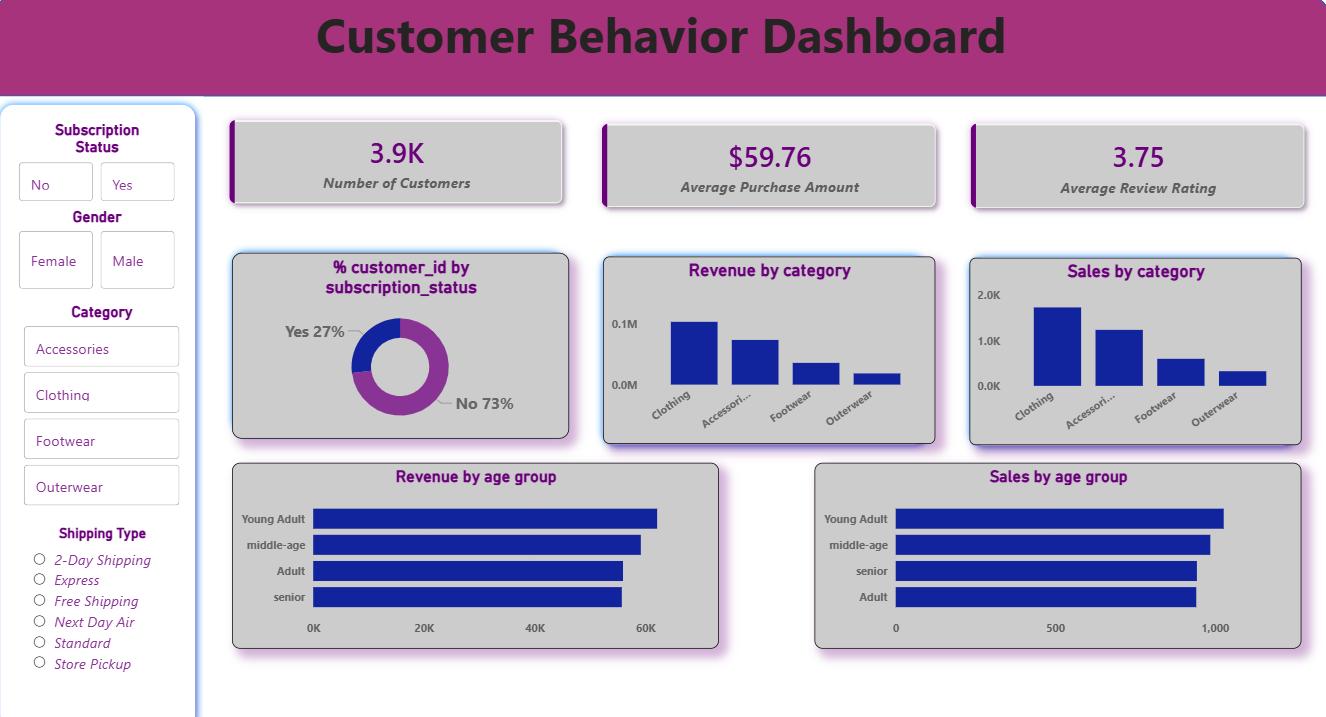

This screenshot's page, from the dashboard's own definition file:
{"tool":"powerbi","page":{"name":"Page 1","canvas":[1474,800],"ordinal":0},"visuals":[{"type":"cardVisual","fields":{"Data":["public customer.Number of Customers"]},"box":[233.8,110.5,426.4,150.2],"z":0},{"type":"cardVisual","fields":{"Data":["public customer.Average Purchase Amount"]},"box":[646,114.8,427.9,150.2],"z":1000},{"type":"cardVisual","fields":{"Data":["public customer.Average Review Rating","public customer.Average Review Rating"]},"box":[1052.6,114.8,427.9,151.6],"z":2000},{"type":"shape","box":[0,0,1480.3,113.3],"z":3000},{"type":"textbox","box":[0,2.8,1480.3,112],"z":4000},{"type":"shape","box":[256.4,276.3,382.5,216.8],"z":5000},{"type":"donutChart","title":"% customer_id by subscription_status","fields":{"Category":["public customer.subscription_status"],"Y":["CountNonNull(public customer.customer_id)"]},"box":[264.9,286.2,372.6,205.4],"z":6000},{"type":"shape","box":[665.9,280.5,375.4,226.7],"z":7000},{"type":"shape","box":[1072.5,281.9,376.9,226.7],"z":8000},{"type":"clusteredColumnChart","title":"Revenue by category","fields":{"Y":["Sum(public customer.purchase_amount)"],"Category":["public customer.category"]},"box":[675.8,290.4,366.9,206.8],"z":9000},{"type":"clusteredColumnChart","title":"Sales by category","fields":{"Y":["CountNonNull(public customer.customer_id)"],"Category":["public customer.category"]},"box":[1081,291.8,366.9,206.8],"z":10000},{"type":"shape","box":[0,113.3,233.8,706.9],"z":11000},{"type":"advancedSlicerVisual","fields":{"Values":["public customer.subscription_status"]},"box":[25.5,139.8,182.8,95.5],"z":12000},{"type":"advancedSlicerVisual","fields":{"Values":["public customer.gender"]},"box":[25.5,236.6,182.8,95.5],"z":13000},{"type":"advancedSlicerVisual","fields":{"Values":["public customer.category"]},"box":[29.8,341.4,182.8,232.3],"z":14000},{"type":"listSlicer","fields":{"Values":["public customer.shipping_type"]},"box":[38.3,587.9,167.2,219.6],"z":15000},{"type":"clusteredBarChart","title":"Revenue by age group","fields":{"Y":["Sum(public customer.purchase_amount)"],"Category":["public customer.age_group"]},"box":[264.9,518.5,538.4,205.4],"z":16000},{"type":"clusteredBarChart","title":"Sales by age group","fields":{"Y":["CountNonNull(public customer.customer_id)"],"Category":["public customer.age_group"]},"box":[909.5,518.5,538.4,205.4],"z":16001}]}

Visuals, with their boxes in screenshot pixels (x1, y1, x2, y2), scaled from the page's 1474x800 canvas onto the 1326x717 screenshot:
cardVisual - public customer.Number of Customers: 210, 99, 594, 234
cardVisual - public customer.Average Purchase Amount: 581, 103, 966, 238
cardVisual - public customer.Average Review Rating x public customer.Average Review Rating: 947, 103, 1325, 239
shape: 0, 0, 1325, 102
textbox: 0, 3, 1325, 103
shape: 231, 248, 575, 442
"% customer_id by subscription_status" donutChart: 238, 257, 573, 441
shape: 599, 251, 937, 455
shape: 965, 253, 1304, 456
"Revenue by category" clusteredColumnChart: 608, 260, 938, 446
"Sales by category" clusteredColumnChart: 972, 262, 1303, 447
shape: 0, 102, 210, 716
advancedSlicerVisual - public customer.subscription_status: 23, 125, 187, 211
advancedSlicerVisual - public customer.gender: 23, 212, 187, 298
advancedSlicerVisual - public customer.category: 27, 306, 191, 514
listSlicer - public customer.shipping_type: 34, 527, 185, 716
"Revenue by age group" clusteredBarChart: 238, 465, 723, 649
"Sales by age group" clusteredBarChart: 818, 465, 1303, 649
